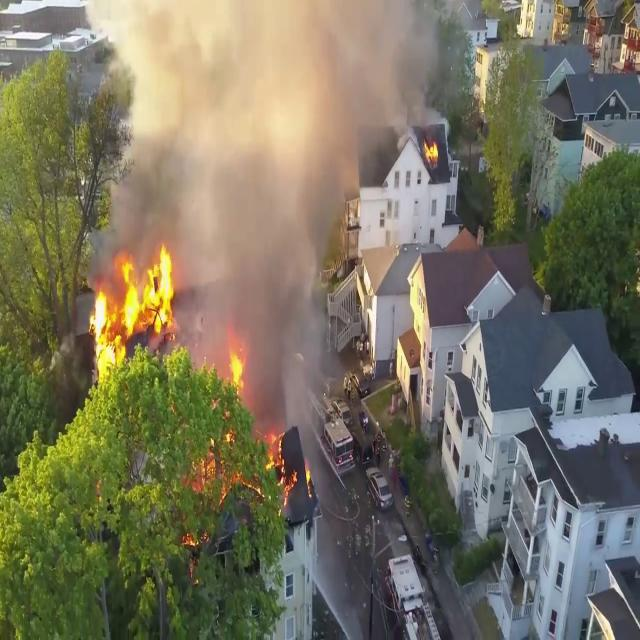Fire: (89, 242, 179, 362), (263, 423, 292, 497), (422, 134, 441, 166)
Smoke: (84, 0, 367, 429)
